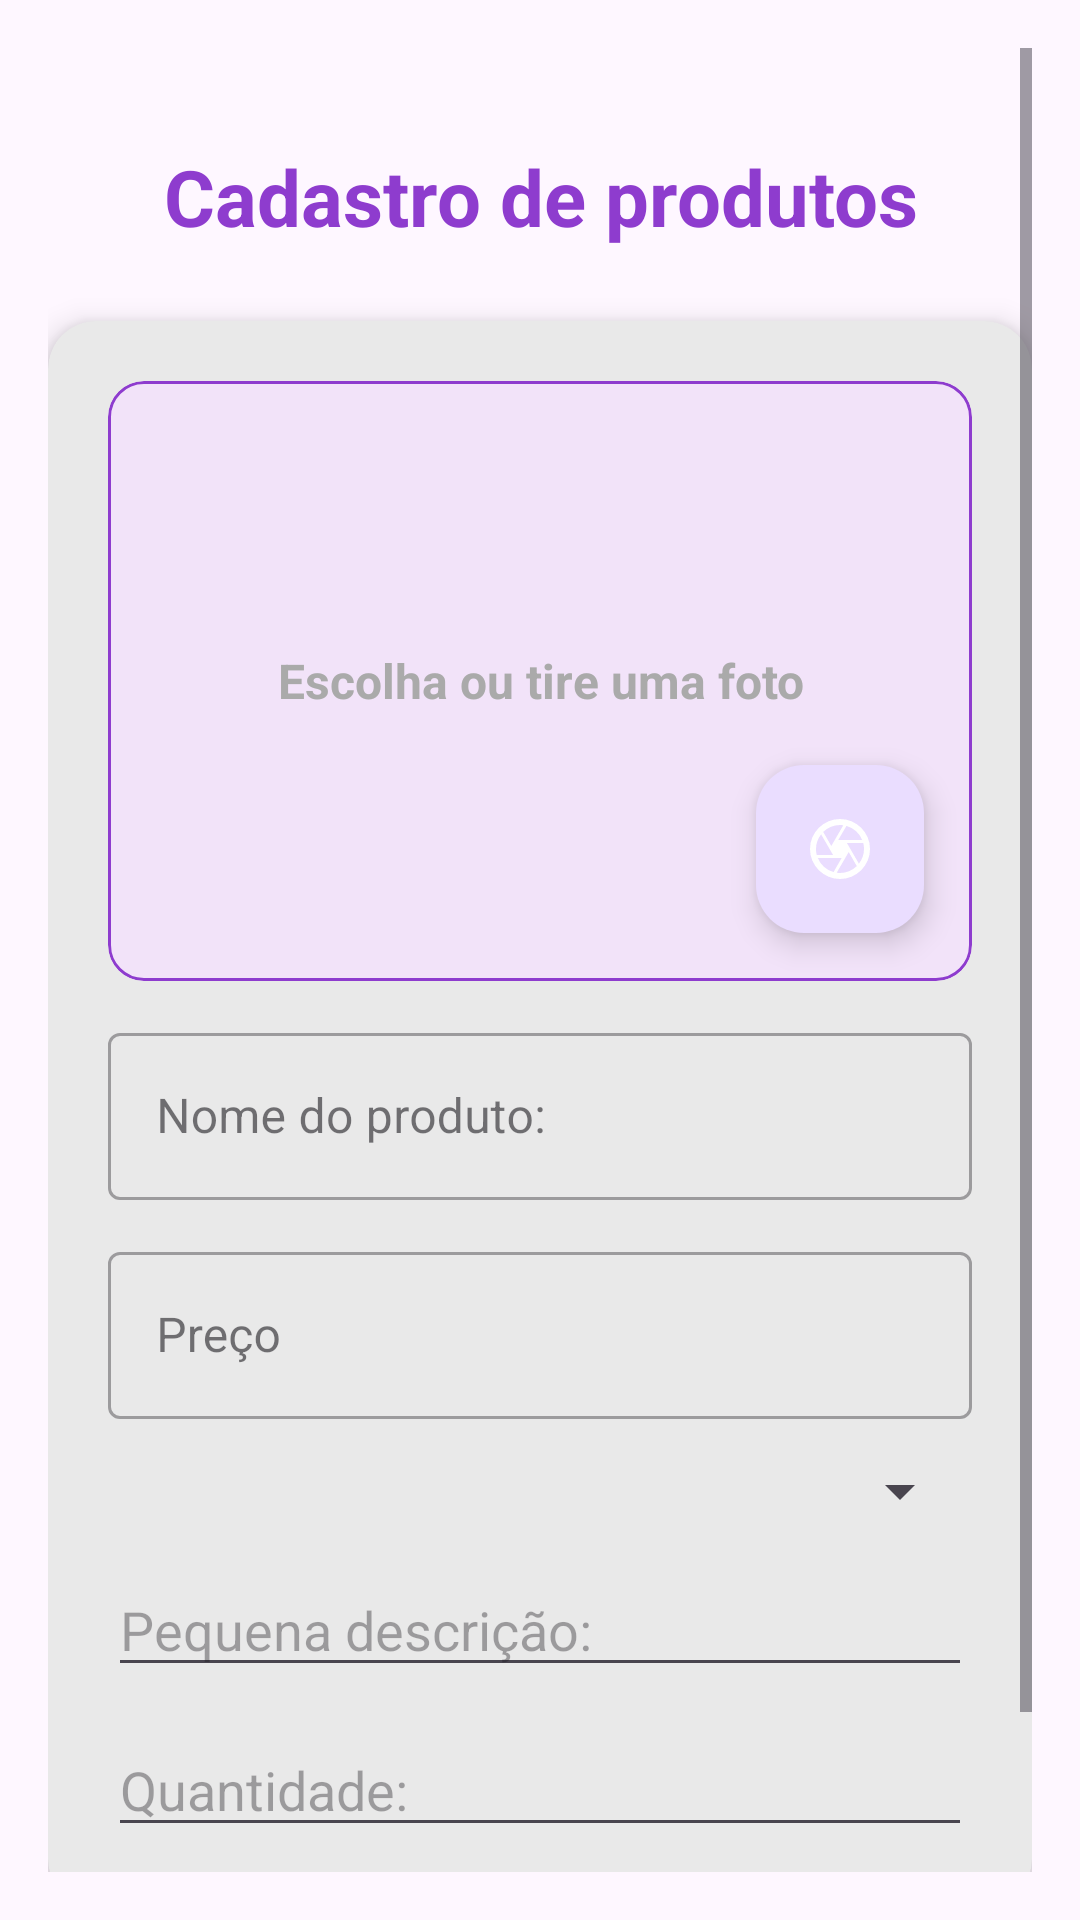

Screen size 1080w x 1920h. Icon name, then its center in pixels as [x,y]:
Adicionar imagem do produto: [840,849]
